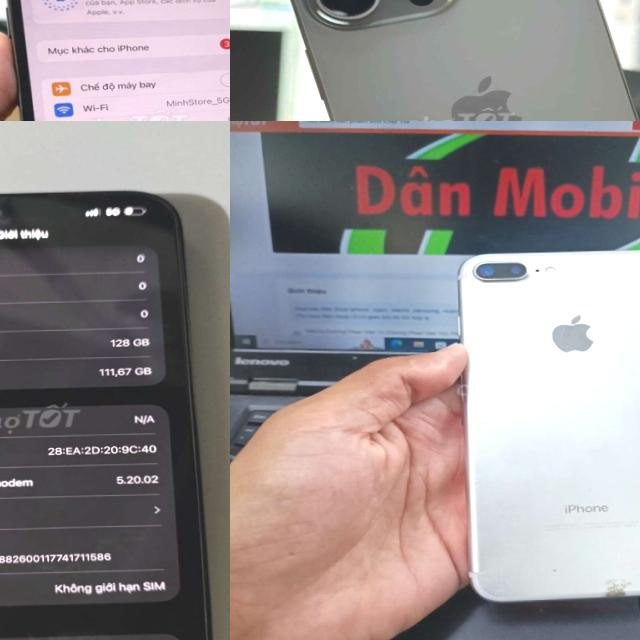gen_12_13: (0, 181, 225, 640), (0, 0, 230, 121)
gen_15: (249, 0, 640, 121)
gen_7_8: (445, 243, 640, 605)
scratch: (0, 193, 20, 239), (544, 562, 564, 575)
